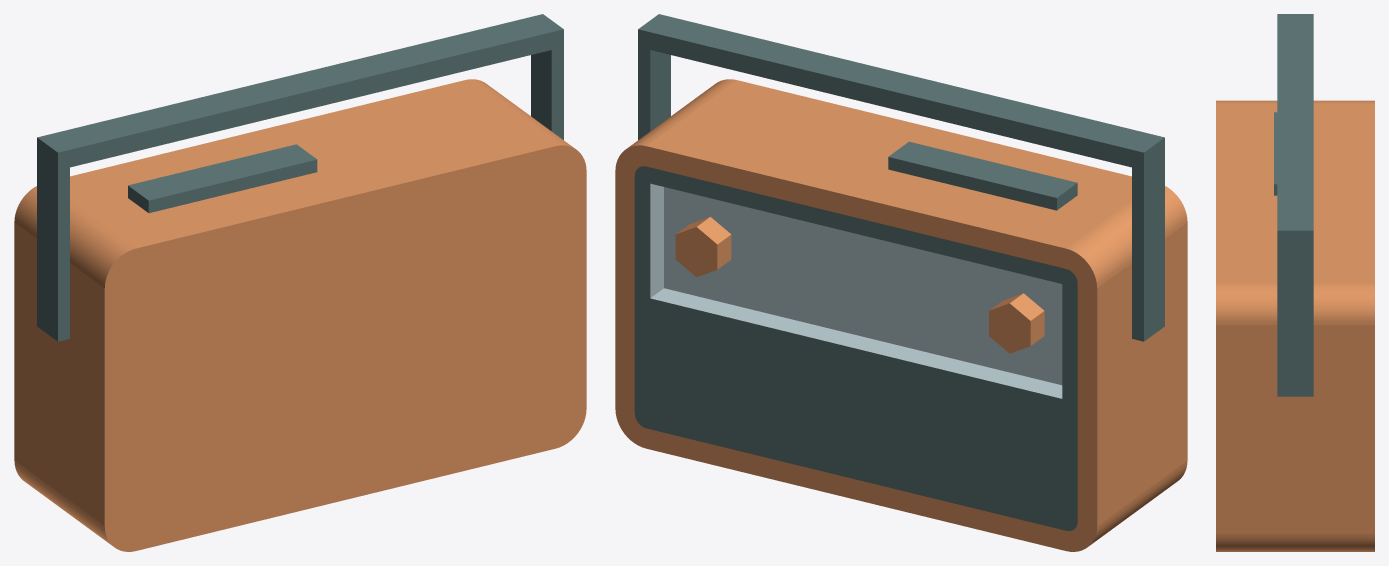
Rendered from radio_prop.obj.
3 views of the same model, side by side, from view 1: azimuth 30°, elevation 25°; view 2: azimuth 150°, elevation 25°; view 3: azimuth 270°, elevation 25° (orthographic). The views are drawn at different scales.
Parts seen in each view (by area): view 1: radio:radio; view 2: radio:radio; view 3: radio:radio.
Boxes of the visible parts, <box> form: radio:radio: <box>14,14,586,551</box>; radio:radio: <box>615,14,1187,551</box>; radio:radio: <box>1216,14,1374,551</box>.
Bounding box in the file's own units: 0.315 × 0.2282 × 0.0975.
